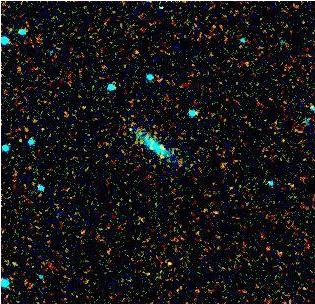star: (159, 249, 189, 279)
